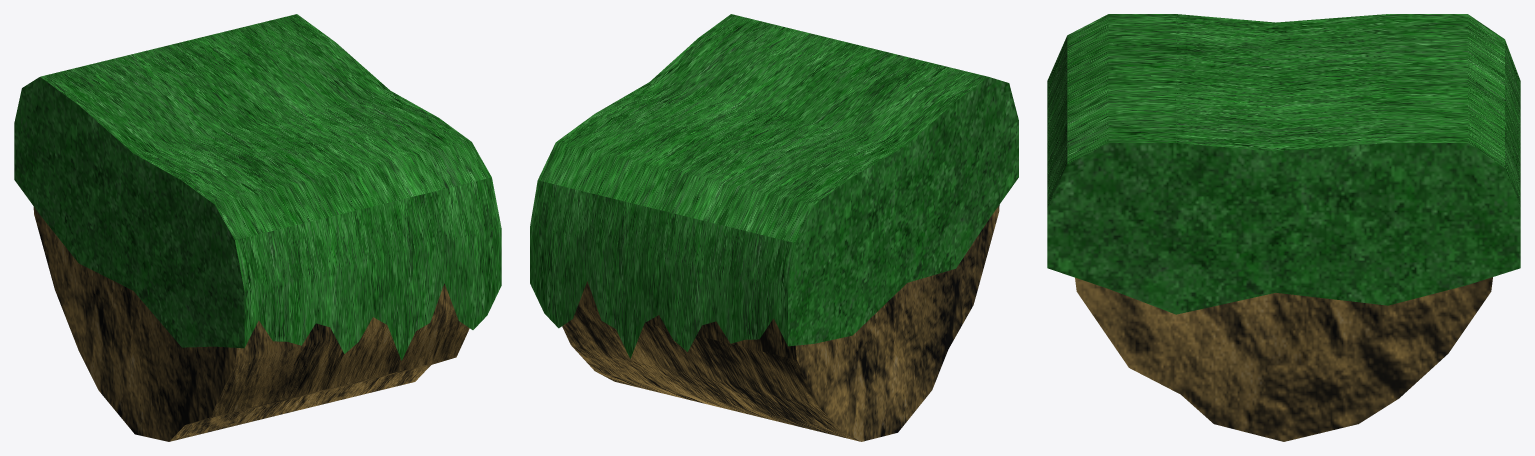
File: grassRockPlatformV2.fbx
3 renders of one model, left to right at view 1: azimuth 30°, elevation 25°; view 2: azimuth 150°, elevation 25°; view 3: azimuth 270°, elevation 25°, orthographic. The views are drawn at different scales.
Visible parts, largest first — view 1: polySurface1; view 2: polySurface1; view 3: polySurface1.
Boxes of the visible parts, x1,y1,x2,y2 form: polySurface1: [14, 14, 501, 441]; polySurface1: [530, 14, 1018, 441]; polySurface1: [1047, 14, 1520, 441].
Bounding box in the file's own units: 3.46 × 3.78 × 5.37.
